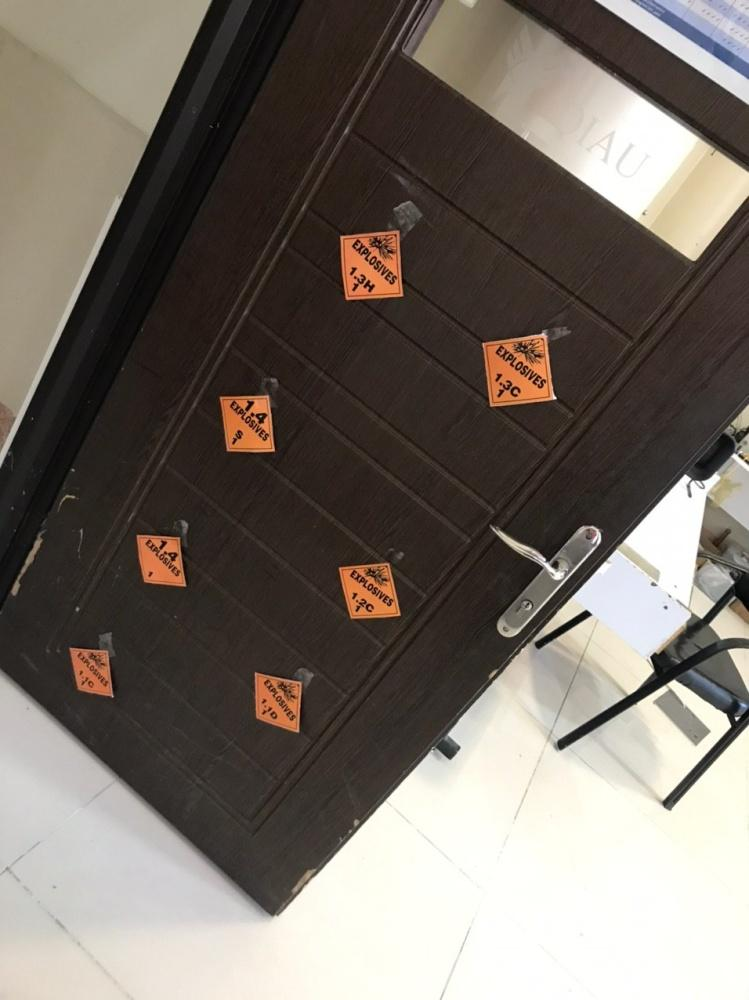explosive: (483, 337, 553, 405), (339, 561, 404, 622), (343, 233, 402, 297), (255, 671, 303, 736), (221, 396, 275, 452), (137, 534, 189, 589), (71, 646, 116, 697)
